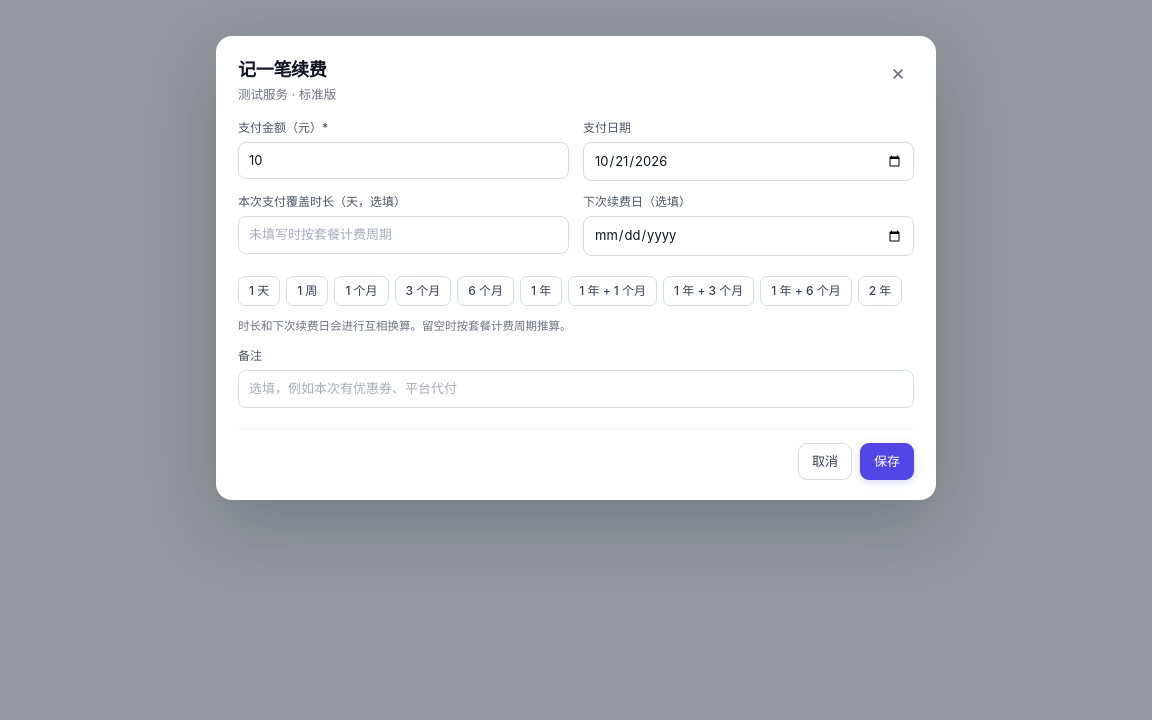
Test: PaymentForm › shows an API error without closing the form
Click the button "保存".
click(887, 461)  # box 860,442 -> 914,480
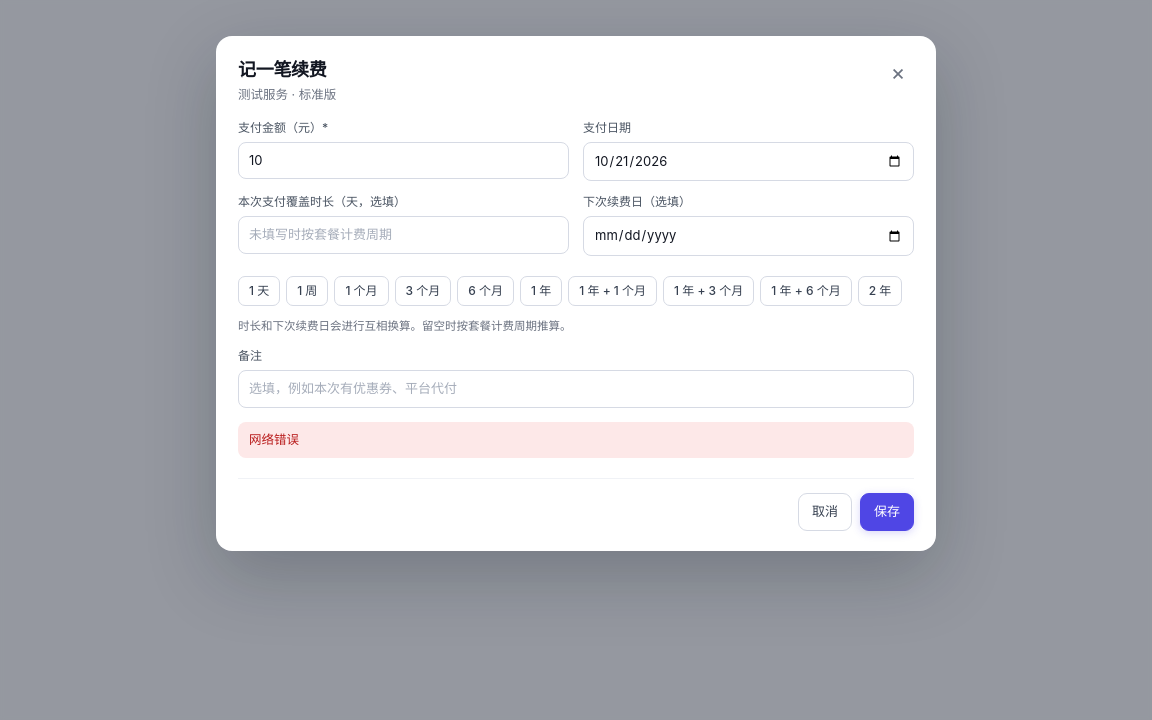
Result: the text "网络错误" is shown at 238,422 -> 914,458
